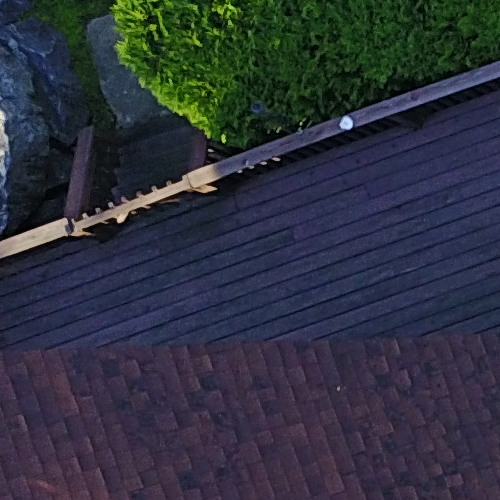porch: (11, 52, 500, 411)
